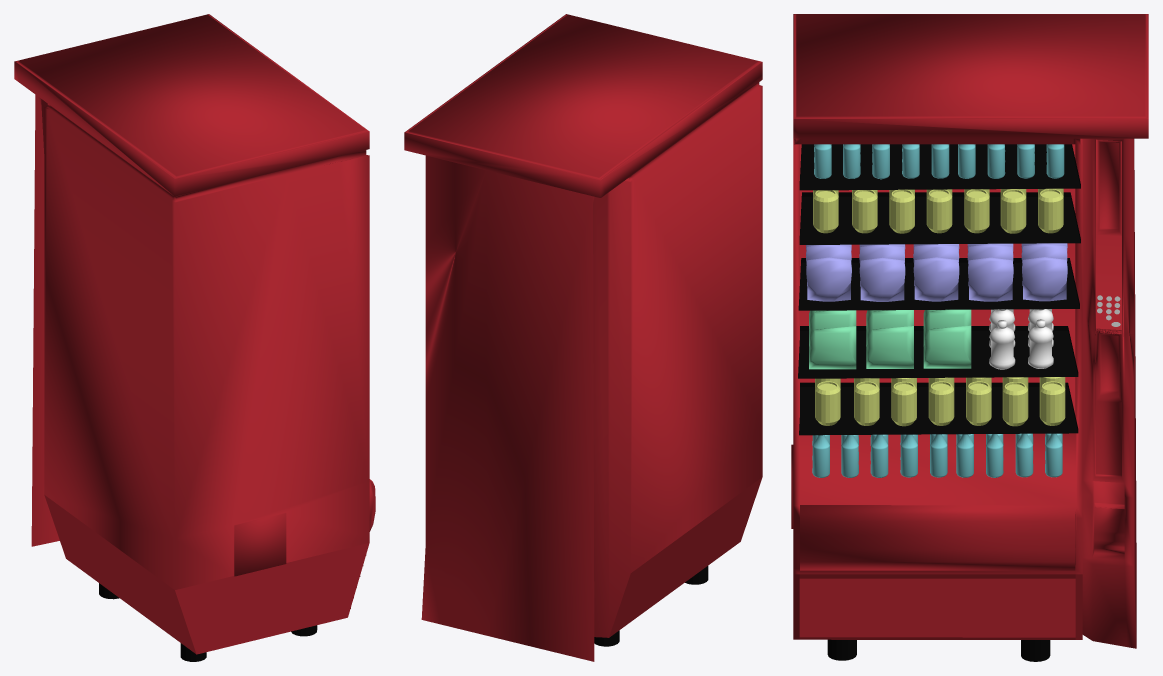
Rendered from vending_machine_rendered.glb.
3 views of the same model, side by side, from view 1: azimuth 30°, elevation 25°; view 2: azimuth 150°, elevation 25°; view 3: azimuth 270°, elevation 25° (orthographic). The views are drawn at different scales.
Visible parts, largest first — view 1: Cube, Cube.001; view 2: Cube, Cube.001; view 3: Cube, Cube.001, CHIPS2, Cube.002, Cube.003, SODA, SODA.001, Cube.006, Cube.005, BIGBOTTLE.001, CHIPS1, BIGBOTTLE (+9 smaller).
Part boxes in pixels (<box>): Cube: <box>14,14,375,589</box>; Cube.001: <box>44,495,369,654</box>; Cube: <box>404,14,762,661</box>; Cube.001: <box>609,477,762,637</box>; Cube: <box>791,14,1148,648</box>; Cube.001: <box>793,574,1082,639</box>; CHIPS2: <box>806,257,1067,301</box>; Cube.002: <box>799,192,1080,244</box>; Cube.003: <box>799,144,1080,190</box>; SODA: <box>815,381,1065,426</box>; SODA.001: <box>813,189,1063,233</box>; Cube.006: <box>799,382,1078,435</box>; Cube.005: <box>798,326,1078,378</box>; BIGBOTTLE.001: <box>812,433,1062,477</box>; CHIPS1: <box>809,325,971,369</box>; BIGBOTTLE: <box>814,144,1064,179</box>.
Bounding box in the file's own units: 0.8863 × 2.11 × 1.22.
